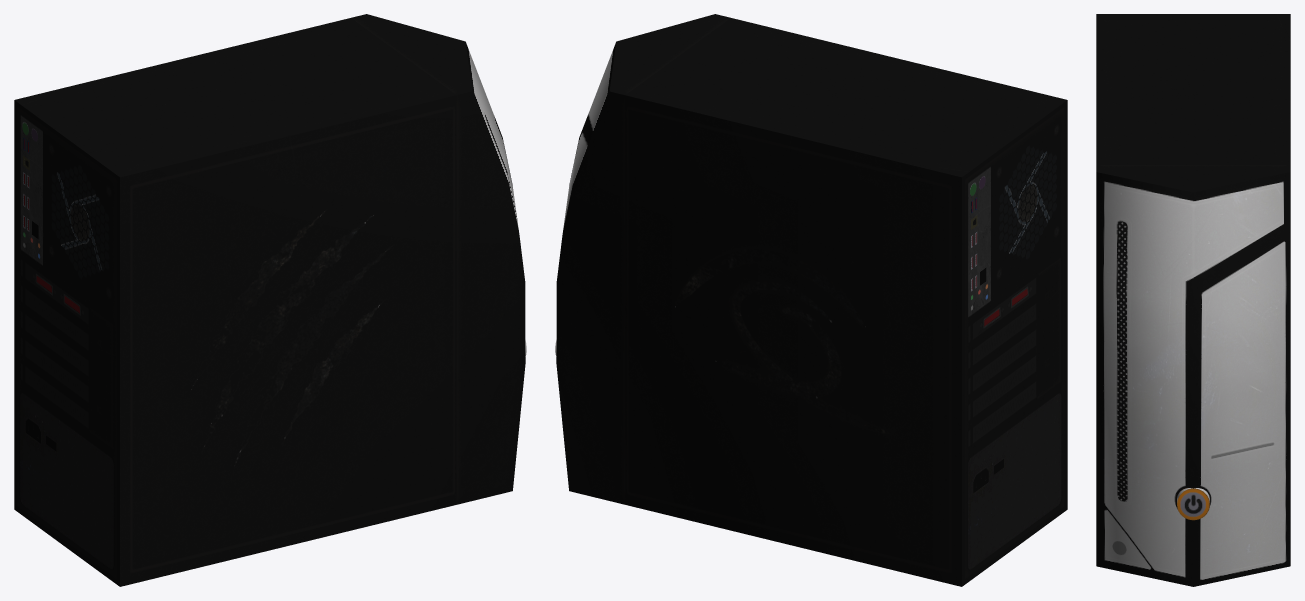
File: Computer.fbx
3 renders of one model, left to right at view 1: azimuth 30°, elevation 25°; view 2: azimuth 150°, elevation 25°; view 3: azimuth 270°, elevation 25°, orthographic. The views are drawn at different scales.
Visible parts, largest first — view 1: Computer; view 2: Computer; view 3: Computer, PowerButton.
Boxes of the visible parts, <box> form: Computer: <box>14,14,525,586</box>; Computer: <box>556,14,1067,586</box>; Computer: <box>1096,14,1290,586</box>; PowerButton: <box>1177,488,1209,520</box>.
Size of the model in its own units: 231 by 200 by 93.71.
